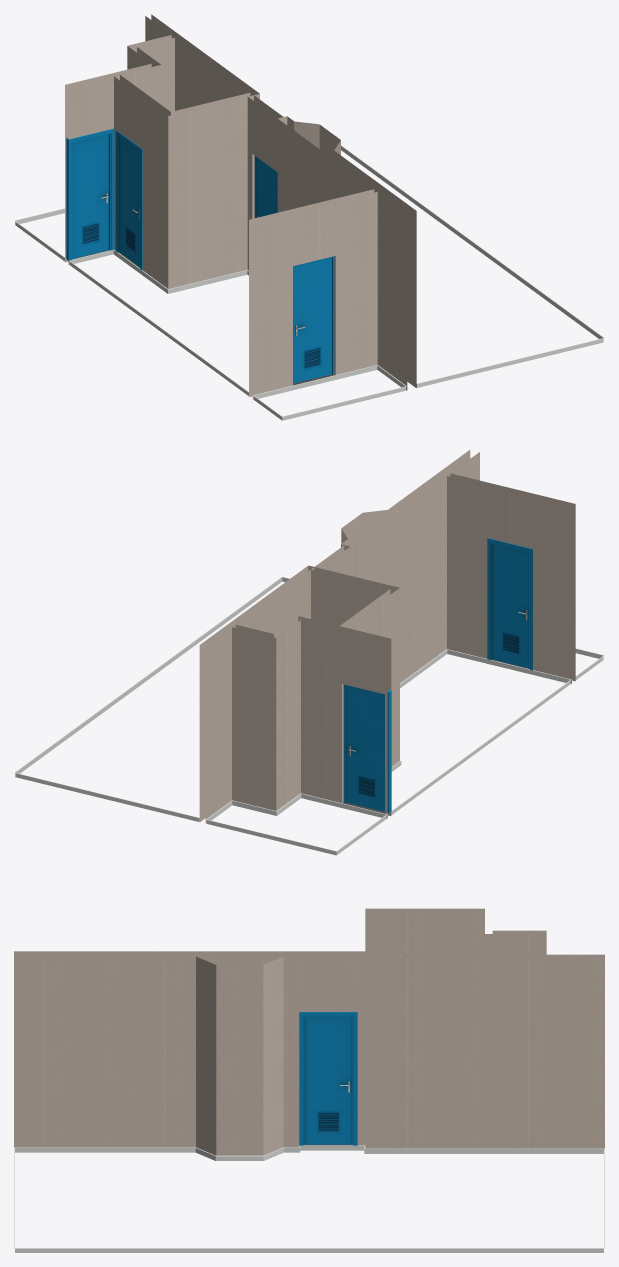
The model's file is Space_03_Rooms.fbx.
3 views of the same model, one above another, from view 1: azimuth 30°, elevation 25°; view 2: azimuth 150°, elevation 25°; view 3: azimuth 270°, elevation 25° (orthographic). The views are drawn at different scales.
Visible parts, largest first — view 1: Room_Walls_002, Skirting_S03_mid_002, Door_Complete_012, Door_Complete_015, Door_Complete_014, Door_Frame_015, Door_Complete_013, Door_Frame_014, Door_Frame_012; view 2: Room_Walls_002, Skirting_S03_mid_002, Door_Complete_015, Door_Complete_012, Door_Frame_012, Door_Frame_015; view 3: Room_Walls_002, Skirting_S03_mid_002, Door_Complete_013, Door_Frame_013.
Boxes of the visible parts, x1=… form: Room_Walls_002: x1=65, y1=14, x2=416, y2=399; Skirting_S03_mid_002: x1=14, y1=145, x2=604, y2=420; Door_Complete_012: x1=293, y1=257, x2=331, y2=383; Door_Complete_015: x1=72, y1=134, x2=109, y2=258; Door_Complete_014: x1=119, y1=137, x2=140, y2=266; Door_Frame_015: x1=66, y1=128, x2=114, y2=260; Door_Complete_013: x1=256, y1=157, x2=277, y2=217; Door_Frame_014: x1=115, y1=130, x2=142, y2=270; Door_Frame_012: x1=293, y1=256, x2=334, y2=383; Room_Walls_002: x1=199, y1=450, x2=575, y2=823; Skirting_S03_mid_002: x1=14, y1=576, x2=604, y2=855; Door_Complete_015: x1=347, y1=686, x2=384, y2=811; Door_Complete_012: x1=492, y1=544, x2=528, y2=668; Door_Frame_012: x1=487, y1=538, x2=532, y2=670; Door_Frame_015: x1=343, y1=684, x2=391, y2=813; Room_Walls_002: x1=14, y1=908, x2=604, y2=1155; Skirting_S03_mid_002: x1=14, y1=1145, x2=604, y2=1252; Door_Complete_013: x1=304, y1=1017, x2=352, y2=1144; Door_Frame_013: x1=299, y1=1012, x2=357, y2=1145.
Bounding box in the file's own units: 6.1 × 3.24 × 8.77.
